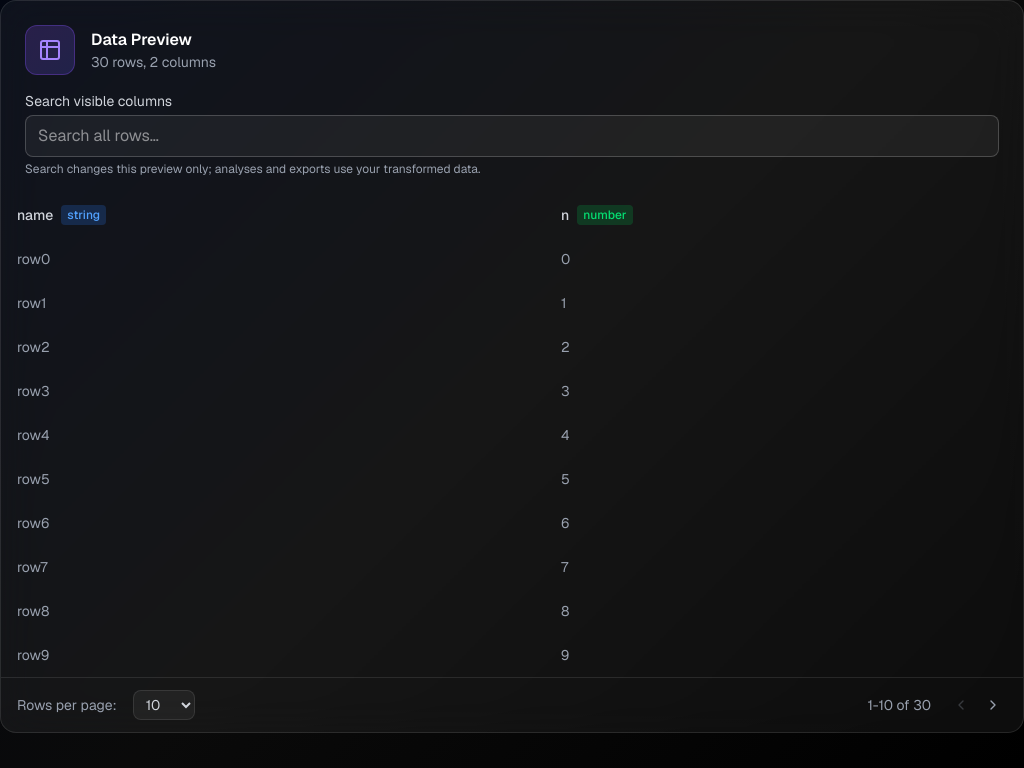
Test case: searches rows beyond the first page and handles empty results
Type "row29" into the search field labelled "Search visible columns".
click(512, 136); type("row29")  # box 25,115 -> 999,157
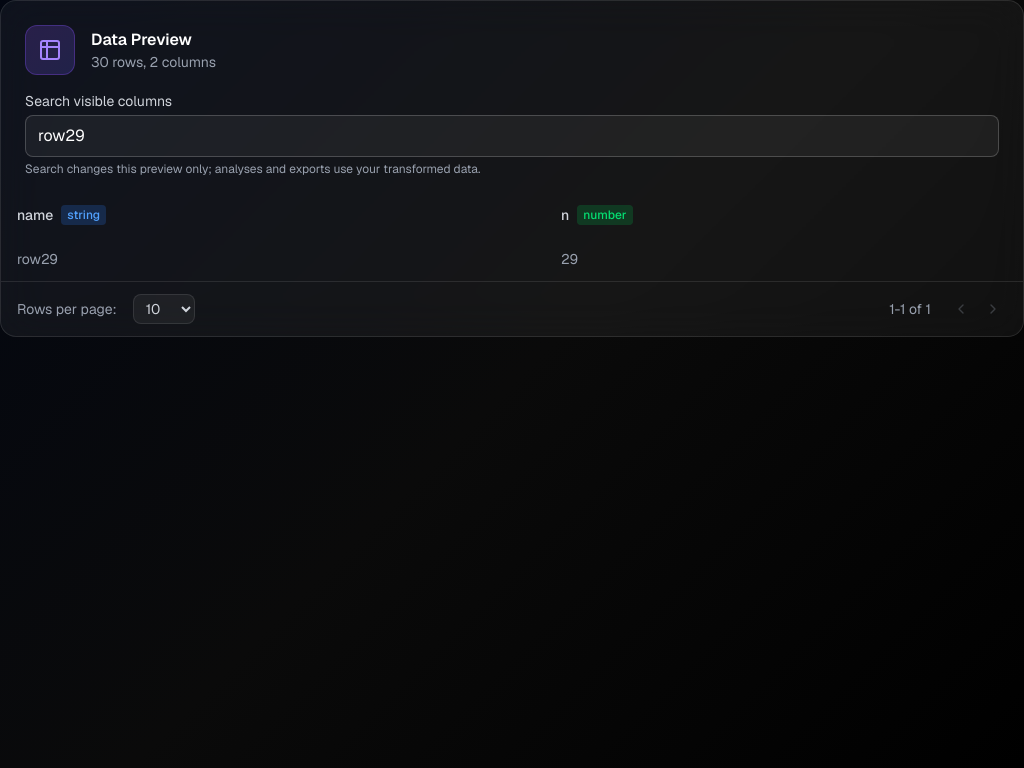
Result: the text "row29" is shown at 17,250 -> 58,268
Result: the text "row0" is gone
Replace the text in the search field labelled "Search visible columns" with "missing" at (512, 136), box 25,115 -> 999,157
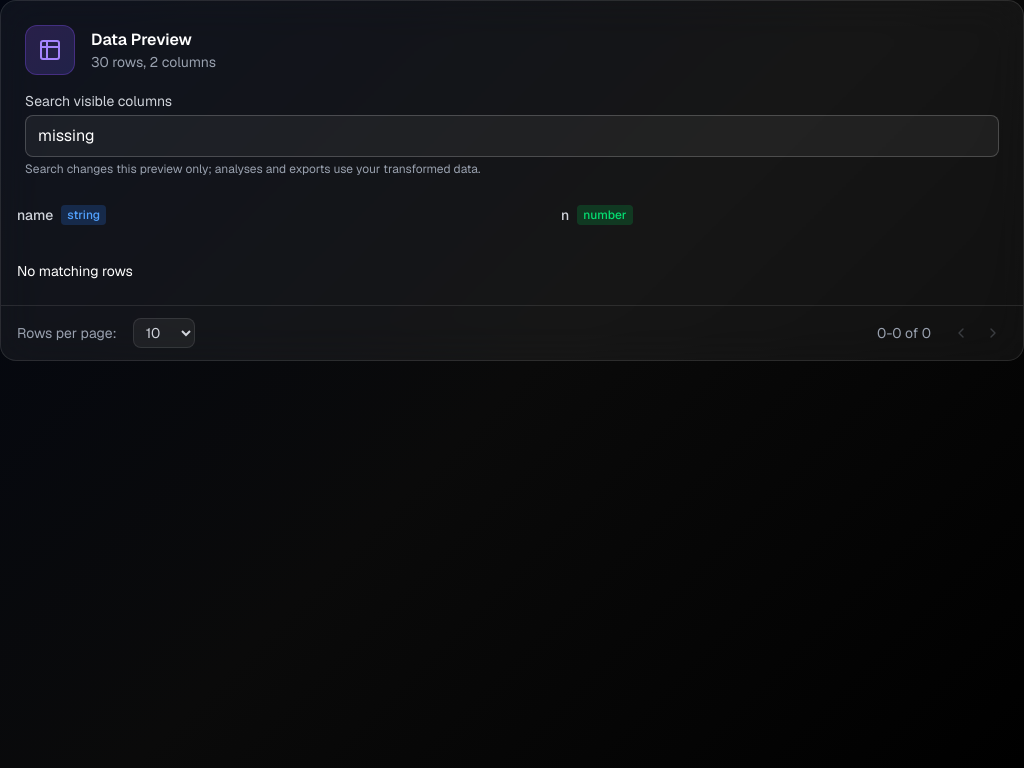
Result: the text "No matching rows" is shown at 1,237 -> 1023,305
Result: the text "0-0 of 0" is shown at 877,323 -> 931,343
